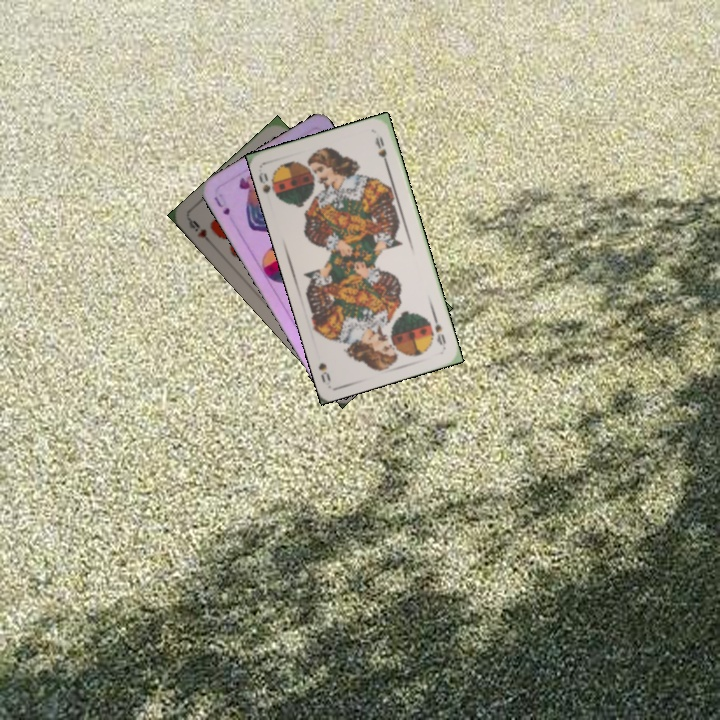H9: (185, 215, 216, 249)
SO: (255, 168, 283, 203), (429, 310, 449, 348)
SU: (210, 192, 233, 218)
